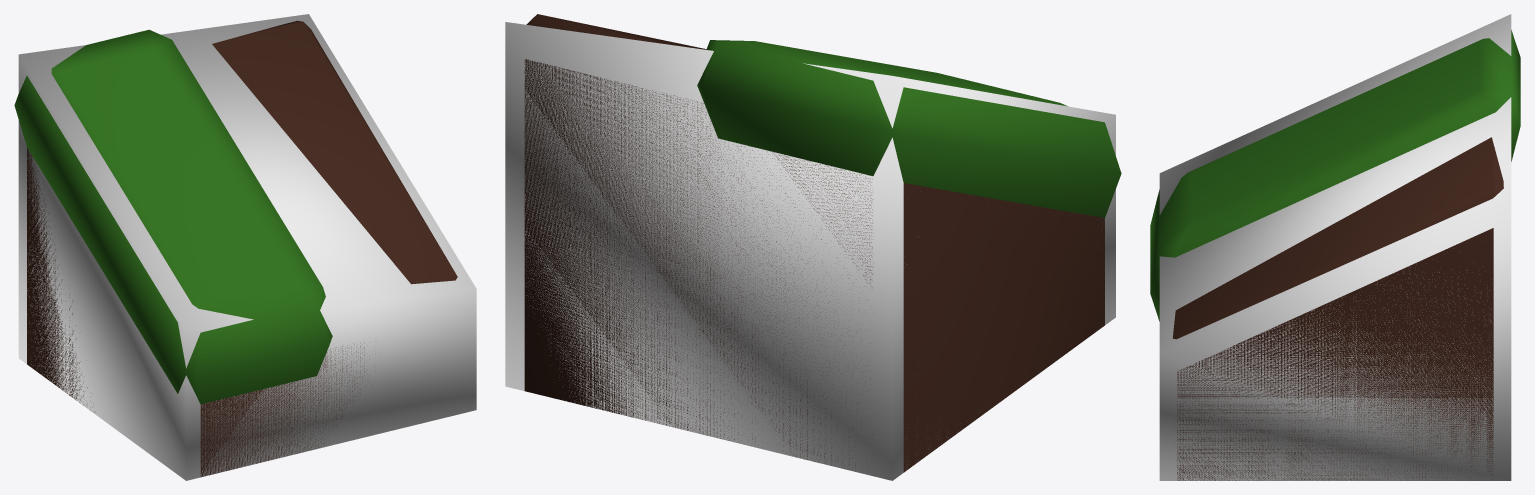
File: edge_ramp_L.glb
3 renders of one model, left to right at view 1: azimuth 30°, elevation 25°; view 2: azimuth 150°, elevation 25°; view 3: azimuth 270°, elevation 25°, orthographic. The views are drawn at different scales.
Parts seen in each view (by area): view 1: edge_ramp_L, edge_ramp_L_phy; view 2: edge_ramp_L_phy, edge_ramp_L; view 3: edge_ramp_L, edge_ramp_L_phy.
Part boxes in pixels (<box>): edge_ramp_L: <box>14,20,457,476</box>; edge_ramp_L_phy: <box>18,14,476,480</box>; edge_ramp_L_phy: <box>505,22,1115,480</box>; edge_ramp_L: <box>524,14,1121,472</box>; edge_ramp_L: <box>1150,30,1520,480</box>; edge_ramp_L_phy: <box>1159,14,1511,480</box>.
Size of the model in its own units: 1.03 by 1 by 1.05.
